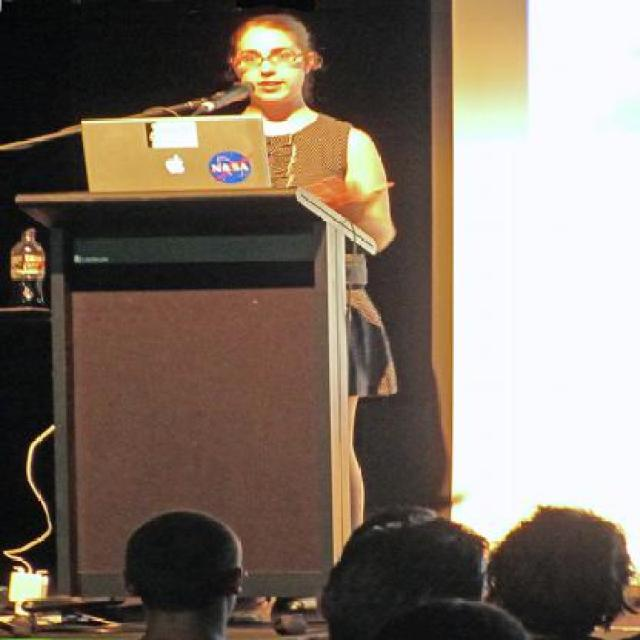obstacle: (228, 16, 400, 526)
